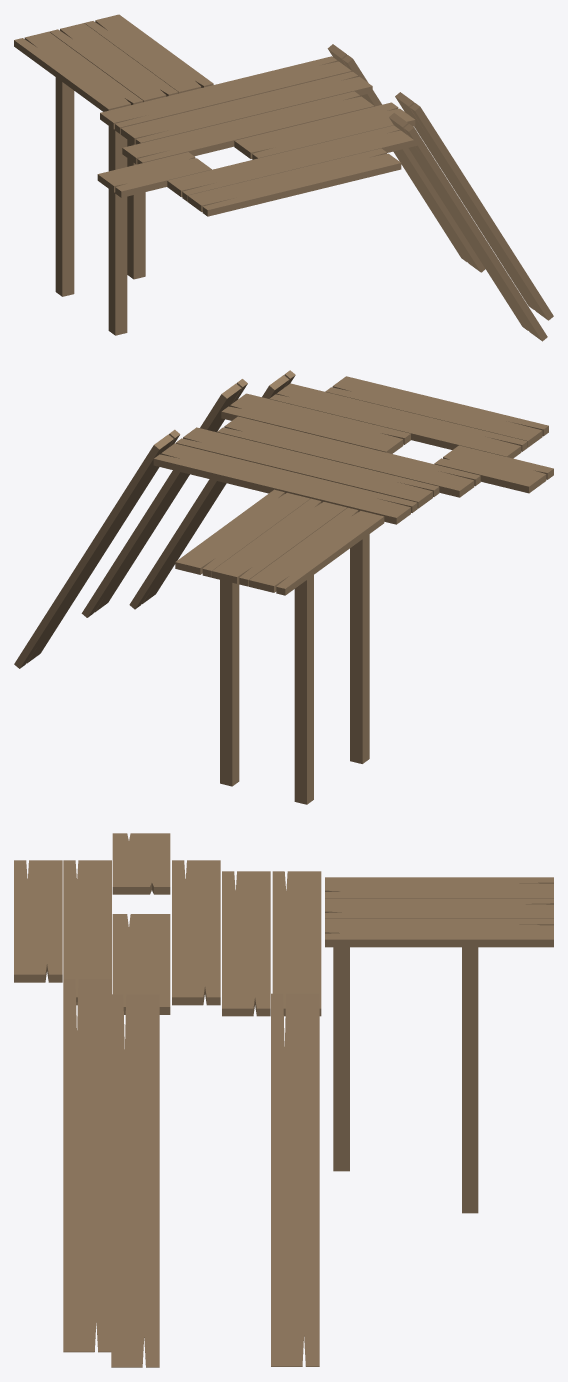
The model's file is env_ChutePlanks.fbx.
3 renders of one model, top to bottom at view 1: azimuth 30°, elevation 25°; view 2: azimuth 150°, elevation 25°; view 3: azimuth 270°, elevation 25°, orthographic. The views are drawn at different scales.
Parts seen in each view (by area): view 1: env_ChutePlanks_01; view 2: env_ChutePlanks_01; view 3: env_ChutePlanks_01.
Boxes of the visible parts, left/top/right/bottom form: env_ChutePlanks_01: left=14, top=14, right=553, bottom=341; env_ChutePlanks_01: left=14, top=370, right=553, bottom=804; env_ChutePlanks_01: left=14, top=833, right=553, bottom=1367.
Bounding box in the file's own units: 523 × 284 × 467.
